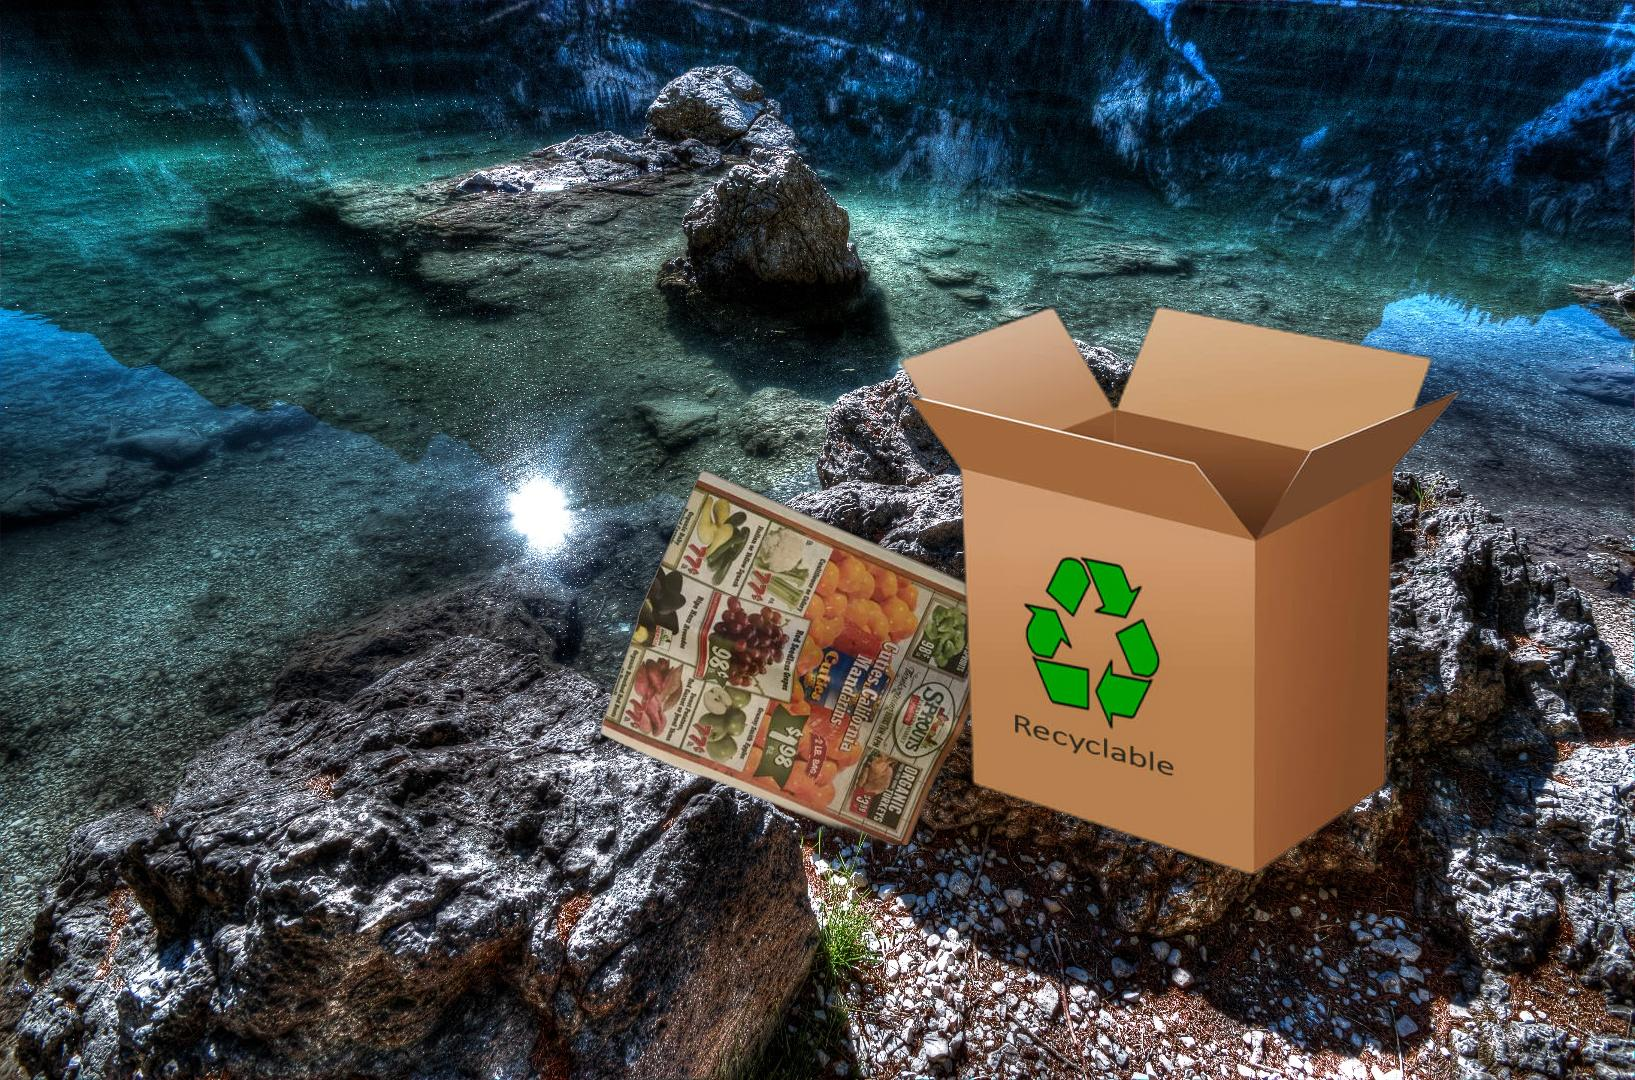paper: (596, 468, 1031, 845)
trashbox-cardboard: (893, 299, 1468, 882)
